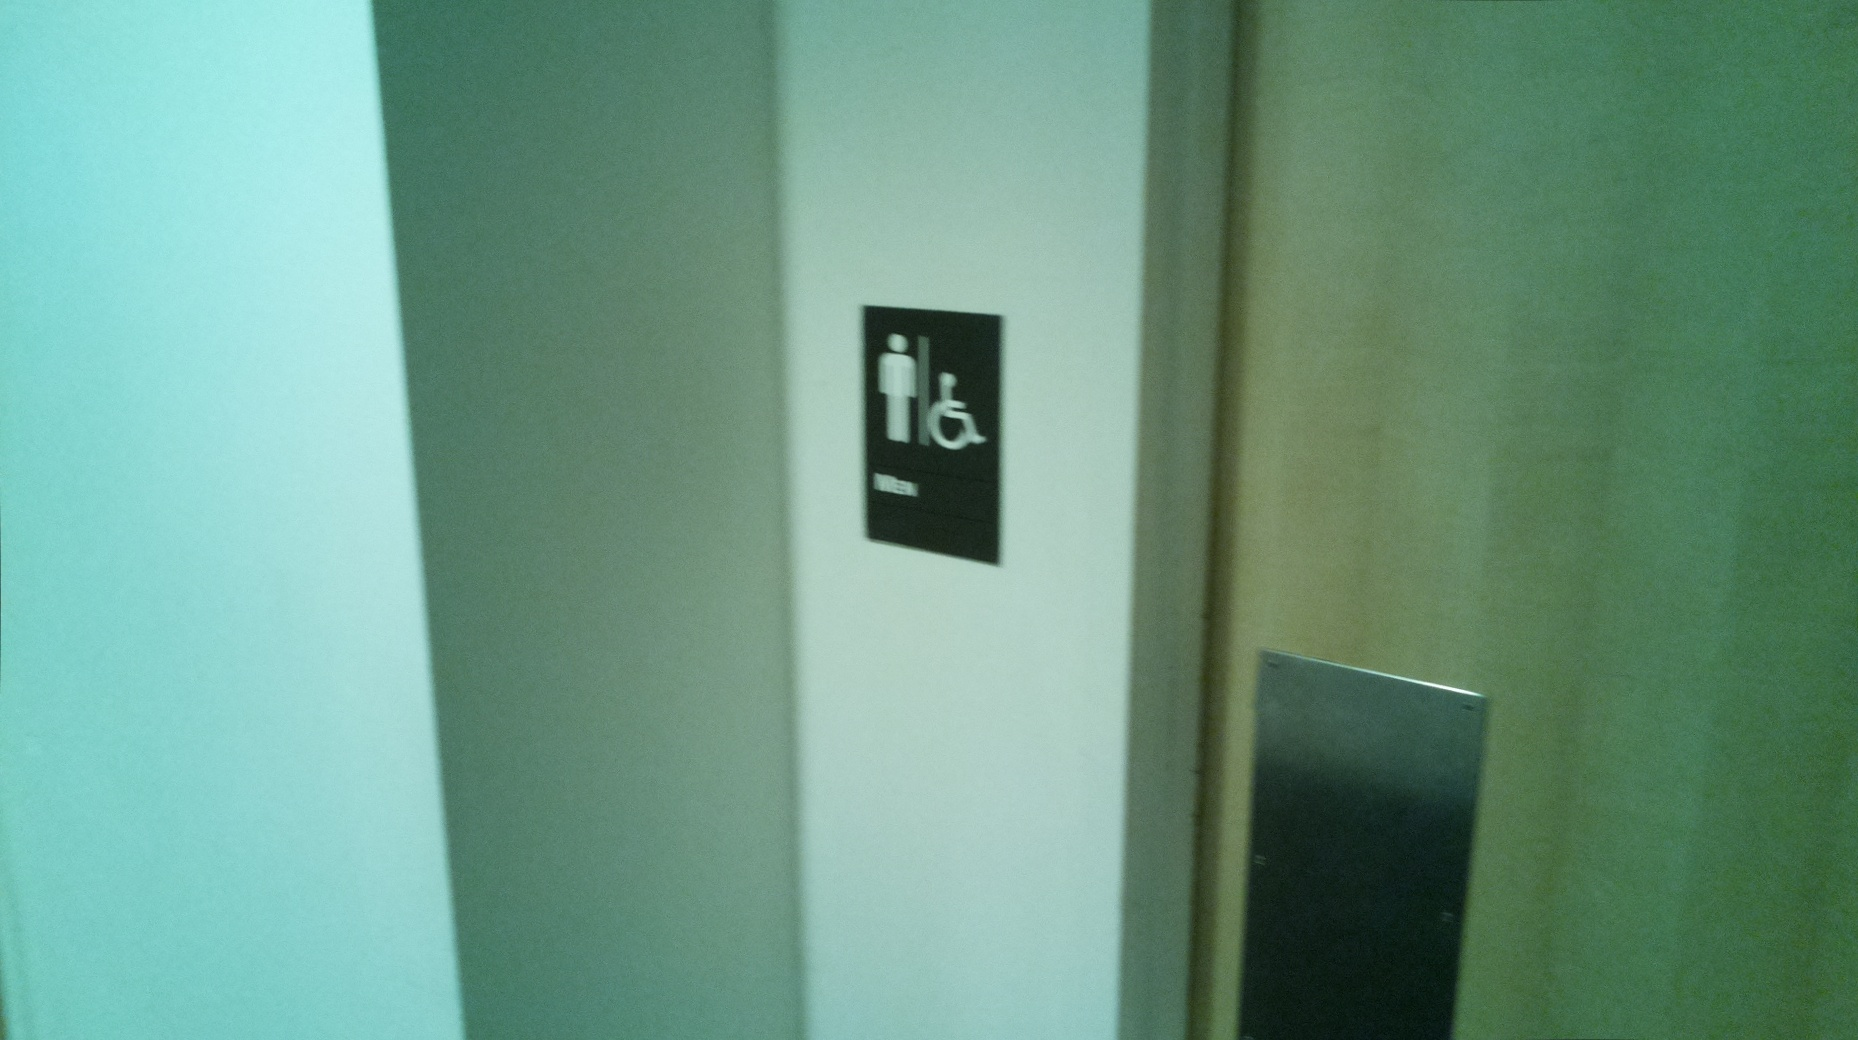bathroom sign: (856, 299, 1017, 576)
